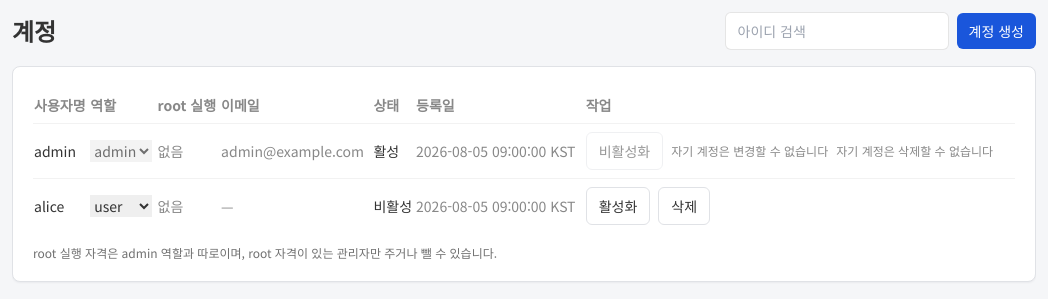
Test: 아이디 검색: 대소문자 무시 부분 일치로 좁히고, 지우면 전체 복원
Expected: the text "alice" is shown, [33,178,89,233]
Type "ALI" into the field labelled "아이디 검색" at (836, 31), box [724,12,948,50]
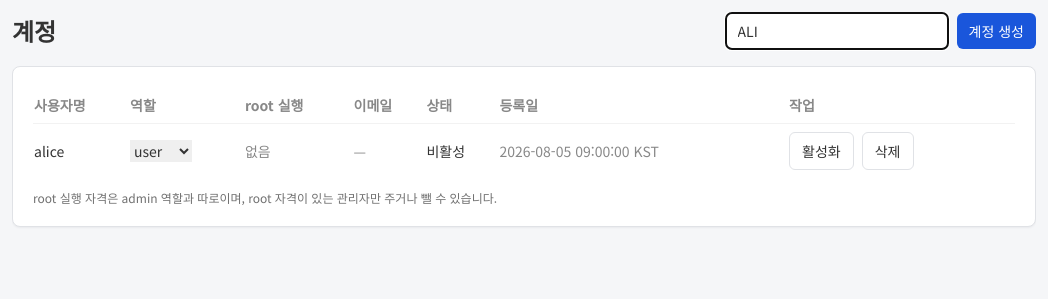
Expected: the text "alice" is shown, [33,124,129,178]
Clear the field named "아이디 검색" at (836, 31), box [724,12,948,50]
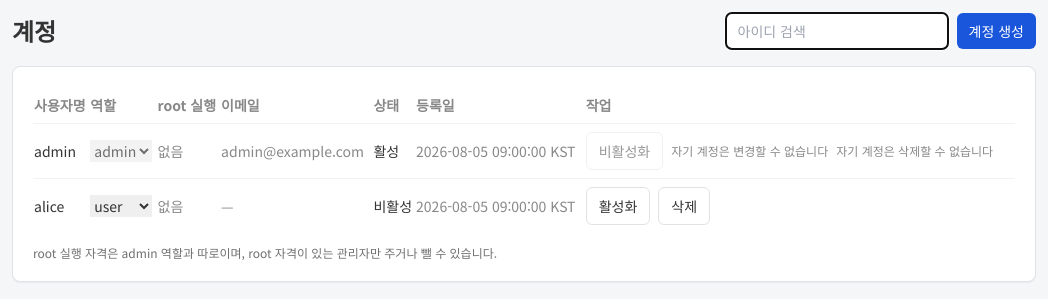
Expected: the text "alice" is shown, [33,178,89,233]
Result: the text "admin" is shown at [33,124,89,178]
